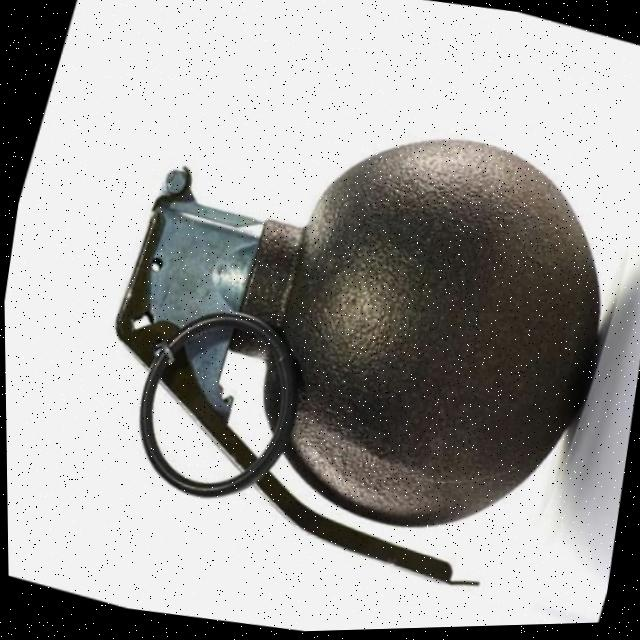grenade: (39, 20, 640, 639)
